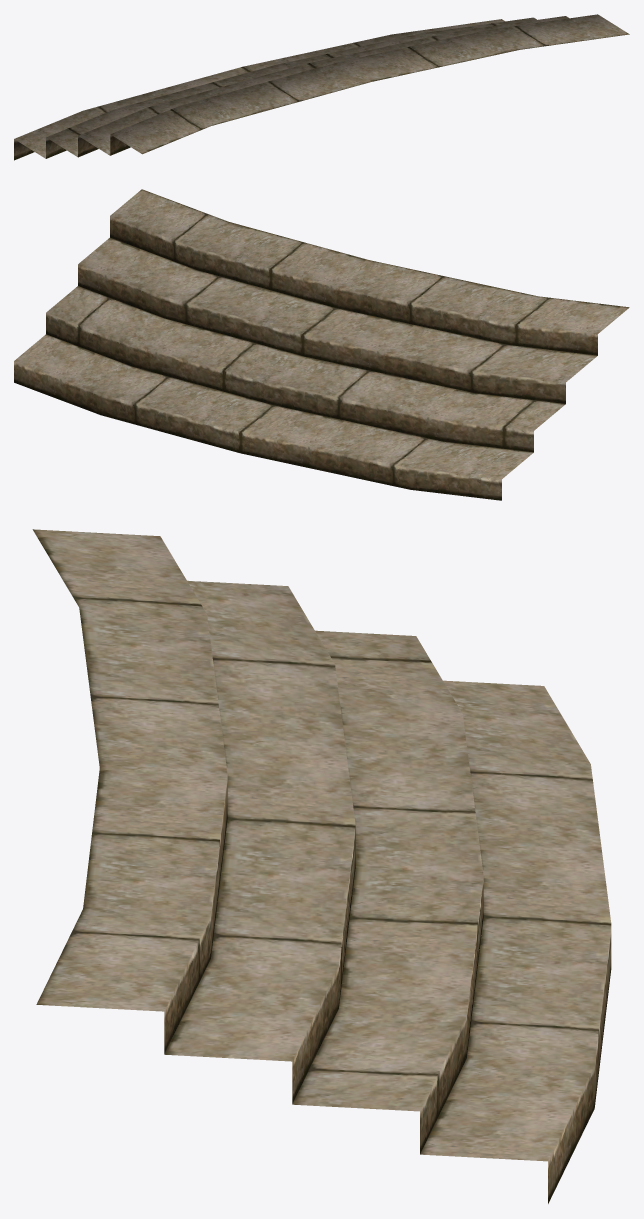
File: EKH_ENTRANCE_PS_EN_LINE301.fbx
The picture shows the model from 3 angles, top to bottom: view 1: azimuth 30°, elevation 25°; view 2: azimuth 150°, elevation 25°; view 3: azimuth 270°, elevation 25°; orthographic projection. The views are drawn at different scales.
Parts seen in each view (by area): view 1: EKH_ENTRANCE_PS_EN_LINE301; view 2: EKH_ENTRANCE_PS_EN_LINE301; view 3: EKH_ENTRANCE_PS_EN_LINE301.
Boxes of the visible parts, x1=… form: EKH_ENTRANCE_PS_EN_LINE301: x1=14, y1=14, x2=629, y2=160; EKH_ENTRANCE_PS_EN_LINE301: x1=14, y1=189, x2=629, y2=500; EKH_ENTRANCE_PS_EN_LINE301: x1=32, y1=529, x2=611, y2=1203.
Bounding box in the file's own units: 65563 × 12845 × 33740.
1 material, 1 textured.
